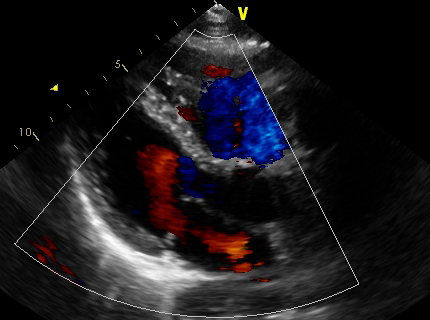AR: (132, 139, 212, 215)
